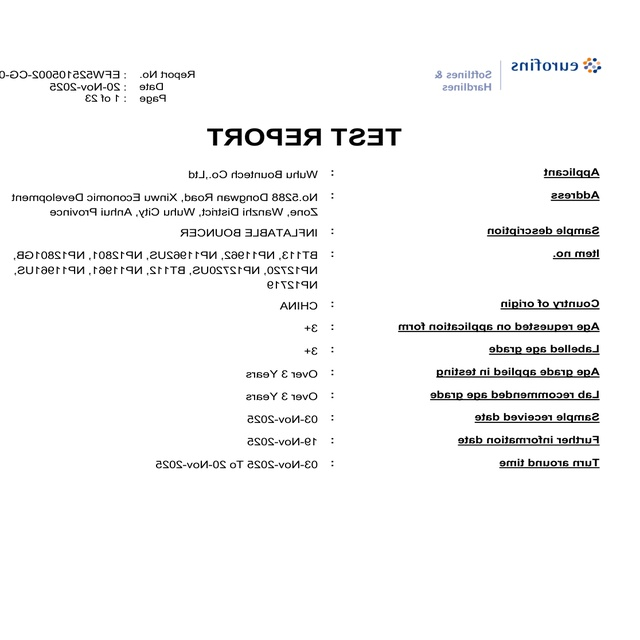eurofins: (506, 53, 613, 81)
